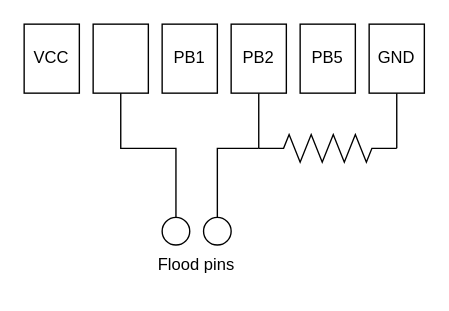
The diagram is 449 pixels wide and 311 high, and some of its shapes have lost their labels. The shapes that lost their labels are listed below. From the top down, each one's box as (x1, y1, x2, y2) in pixels, then its label:
(92, 23, 148, 93): PB0
(257, 133, 397, 162): 18 kΩ
